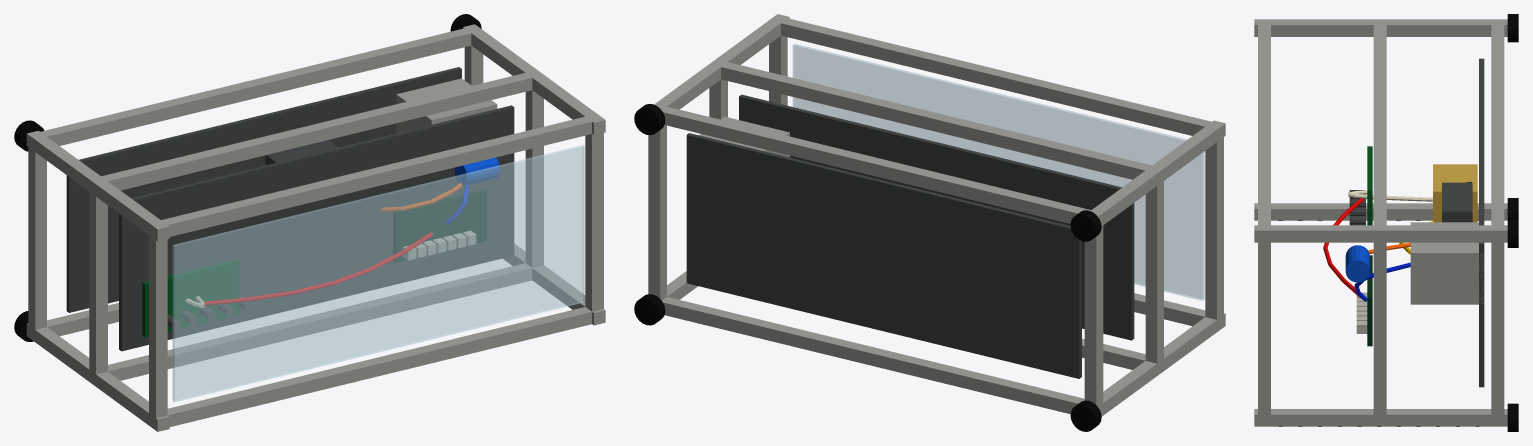
The model's file is 01_open_metal_electronics_rack.fbx.
3 views of the same model, side by side, from view 1: azimuth 30°, elevation 25°; view 2: azimuth 150°, elevation 25°; view 3: azimuth 270°, elevation 25° (orthographic). The views are drawn at different scales.
Parts seen in each view (by area): view 1: rack_top_clear_plate, rack_perforated_shelf_1, rack_perforated_shelf_0, rack_frontback_xrail_z2_0_5, rack_frontback_xrail_z1_0_5, rack_frontback_xrail_z2_-0_5, rack_frontback_xrail_z0_0_5, rack_frontback_xrail_z1_-0_5, rack_pcb_left_mid, rack_pcb_right_mid, rack_side_yrail_z2_-1_2, rack_side_yrail_z1_-1_2 (+12 smaller); view 2: rack_perforated_shelf_0, rack_top_clear_plate, rack_perforated_shelf_1, rack_frontback_xrail_z2_0_5, rack_frontback_xrail_z1_0_5, rack_frontback_xrail_z0_0_5, rack_frontback_xrail_z0_-0_5, rack_side_yrail_z0_-1_2, rack_side_yrail_z2_-1_2, rack_side_yrail_z1_-1_2, rack_side_yrail_z0_1_2, rack_vertical_post_0_1 (+11 smaller); view 3: rack_silver_power_supply, rack_vertical_post_1_1, rack_vertical_post_1_0, rack_vertical_post_0_1, rack_frontback_xrail_z1_0_5, rack_frontback_xrail_z0_0_5, rack_frontback_xrail_z2_0_5, rack_vertical_post_0_0, rack_side_yrail_z0_1_2, rack_side_yrail_z1_1_2, rack_side_yrail_z2_1_2, rack_perforated_shelf_0 (+9 smaller).
Boxes of the visible parts, box(x1,y1,x2,y2) form: rack_top_clear_plate: box(172, 145, 584, 402); rack_perforated_shelf_1: box(119, 105, 514, 351); rack_perforated_shelf_0: box(66, 67, 461, 312); rack_frontback_xrail_z2_0_5: box(158, 115, 595, 236); rack_frontback_xrail_z1_0_5: box(95, 71, 537, 190); rack_frontback_xrail_z2_-0_5: box(167, 307, 591, 426); rack_frontback_xrail_z0_0_5: box(39, 27, 476, 145); rack_frontback_xrail_z1_-0_5: box(108, 263, 532, 380); rack_pcb_left_mid: box(142, 259, 239, 337); rack_pcb_right_mid: box(393, 189, 486, 262); rack_side_yrail_z2_-1_2: box(149, 229, 167, 422); rack_side_yrail_z1_-1_2: box(89, 186, 107, 380); rack_perforated_shelf_0: box(686, 133, 1081, 378); rack_top_clear_plate: box(792, 43, 1204, 300); rack_perforated_shelf_1: box(739, 94, 1134, 340); rack_frontback_xrail_z2_0_5: box(776, 17, 1217, 135); rack_frontback_xrail_z1_0_5: box(721, 62, 1156, 179); rack_frontback_xrail_z0_0_5: box(659, 105, 1095, 223); rack_frontback_xrail_z0_-0_5: box(662, 297, 1084, 414); rack_side_yrail_z0_-1_2: box(1084, 225, 1103, 409); rack_side_yrail_z2_-1_2: box(1205, 135, 1223, 325); rack_side_yrail_z1_-1_2: box(1145, 175, 1163, 365); rack_side_yrail_z0_1_2: box(648, 125, 666, 300); rack_vertical_post_0_1: box(1090, 120, 1225, 225); rack_silver_power_supply: box(1410, 222, 1483, 304); rack_vertical_post_1_1: box(1254, 225, 1507, 242); rack_vertical_post_1_0: box(1254, 409, 1507, 426); rack_vertical_post_0_1: box(1254, 19, 1507, 36); rack_frontback_xrail_z1_0_5: box(1373, 22, 1386, 227); rack_frontback_xrail_z0_0_5: box(1491, 22, 1504, 227); rack_frontback_xrail_z2_0_5: box(1258, 22, 1270, 227); rack_vertical_post_0_0: box(1254, 203, 1507, 220); rack_side_yrail_z0_1_2: box(1491, 236, 1504, 420); rack_side_yrail_z1_1_2: box(1373, 236, 1386, 420); rack_side_yrail_z2_1_2: box(1258, 236, 1270, 420); rack_perforated_shelf_0: box(1479, 58, 1484, 387).
Size of the model in its own units: 2.54 by 1.14 by 1.3.
